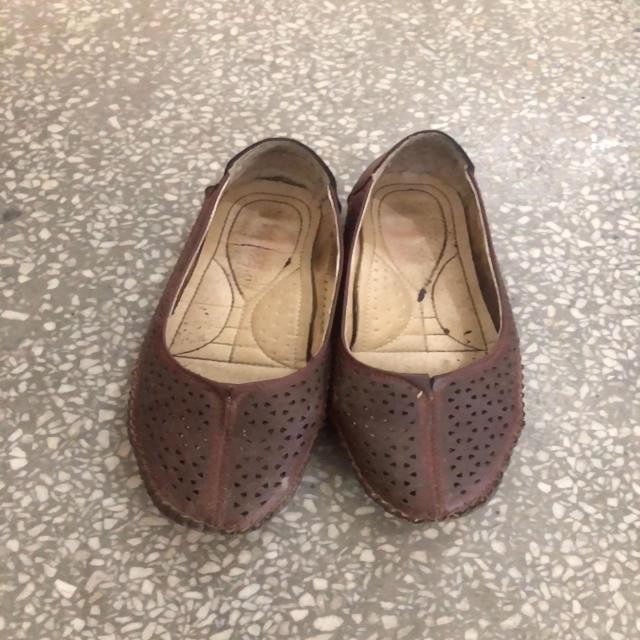shoe: (127, 128, 336, 534), (337, 124, 519, 516)
